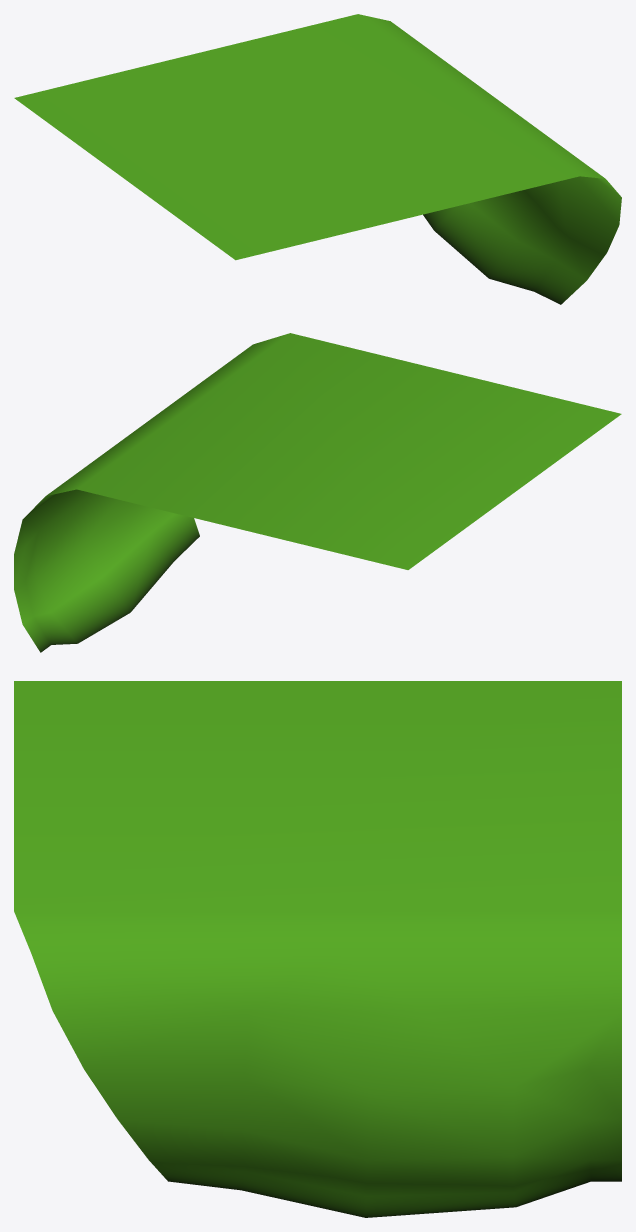
The model's file is Surface_SideUpCorner.fbx.
The picture shows the model from 3 angles, top to bottom: view 1: azimuth 30°, elevation 25°; view 2: azimuth 150°, elevation 25°; view 3: azimuth 270°, elevation 25°; orthographic projection. The views are drawn at different scales.
Visible parts, largest first — view 1: Surface_SideUpCorner; view 2: Surface_SideUpCorner; view 3: Surface_SideUpCorner.
Part boxes in pixels (x1,y1,x2,y2): Surface_SideUpCorner: [14, 14, 621, 304]; Surface_SideUpCorner: [14, 333, 621, 652]; Surface_SideUpCorner: [14, 681, 621, 1217].
Bounding box in the file's own units: 2223 × 1022 × 2000.
